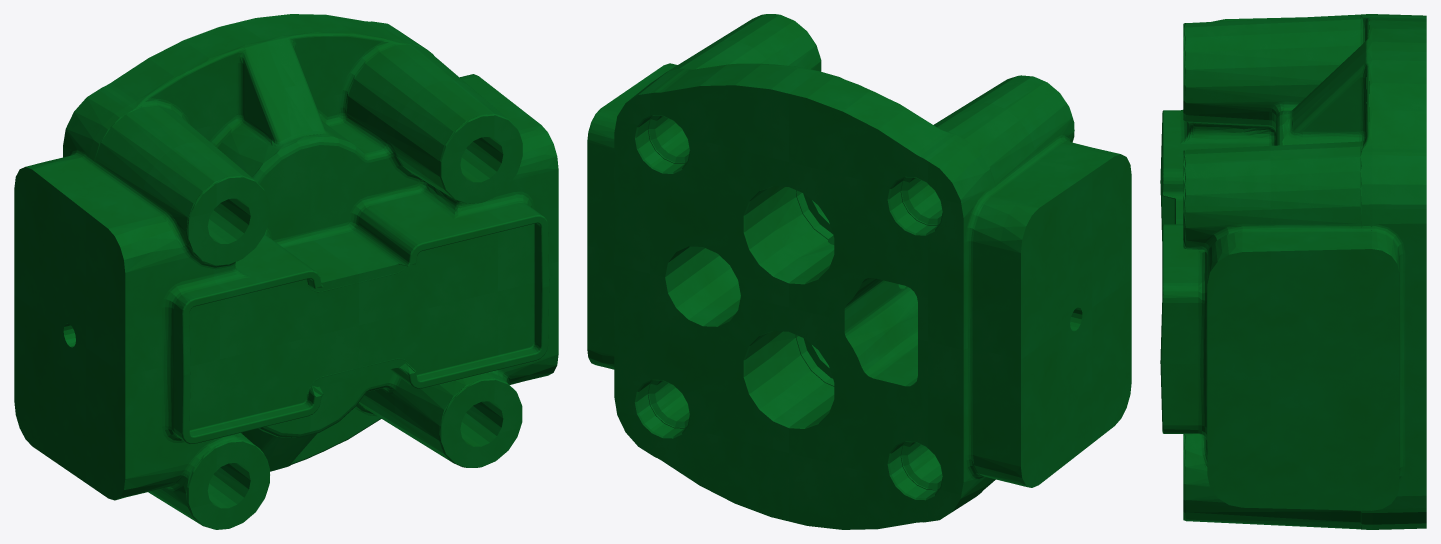
The model's file is Part_green.glb.
3 views of the same model, side by side, from view 1: azimuth 30°, elevation 25°; view 2: azimuth 150°, elevation 25°; view 3: azimuth 270°, elevation 25° (orthographic). The views are drawn at different scales.
Visible parts, largest first — view 1: Part; view 2: Part; view 3: Part.
Part boxes in pixels (x1,y1,x2,y2): Part: (14,14,558,529); Part: (587,14,1131,529); Part: (1160,14,1426,529).
Size of the model in its own units: 0.0875 by 0.0815 by 0.0443.
Materials: 1 (1 with a texture image).
